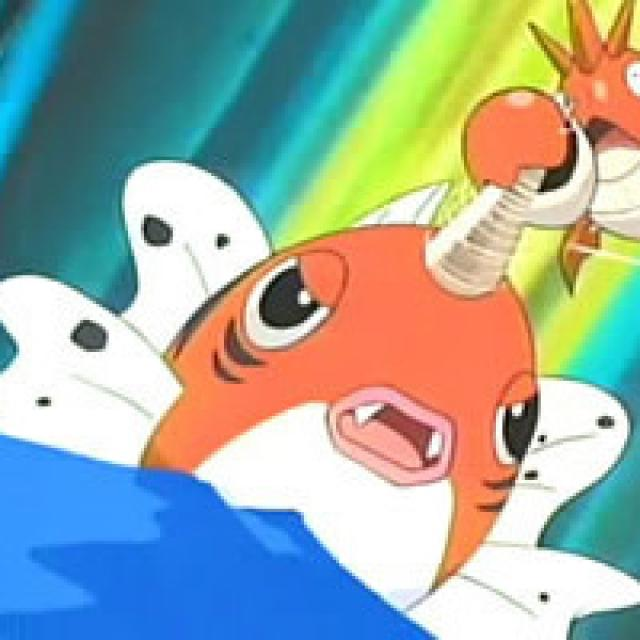Seaking: (11, 148, 613, 623)
